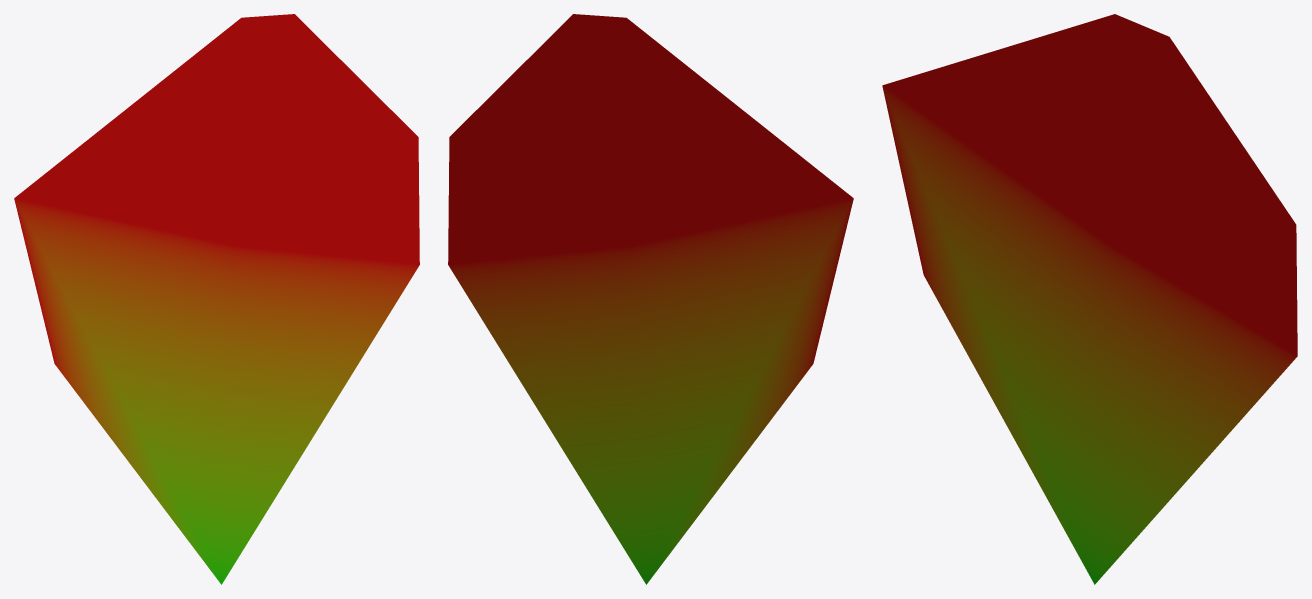
Rendered from Rose Hip_LOD5_Var2.fbx.
3 views of the same model, side by side, from view 1: azimuth 30°, elevation 25°; view 2: azimuth 150°, elevation 25°; view 3: azimuth 330°, elevation 25° (orthographic). The views are drawn at different scales.
Visible parts, largest first — view 1: _stfk_Var2_LOD5; view 2: _stfk_Var2_LOD5; view 3: _stfk_Var2_LOD5.
Boxes of the visible parts, left/top/right/bottom form: _stfk_Var2_LOD5: left=14, top=14, right=419, bottom=584; _stfk_Var2_LOD5: left=448, top=14, right=853, bottom=584; _stfk_Var2_LOD5: left=882, top=14, right=1297, bottom=584.
Bounding box in the file's own units: 90.58 × 120 × 1.16e-10.
